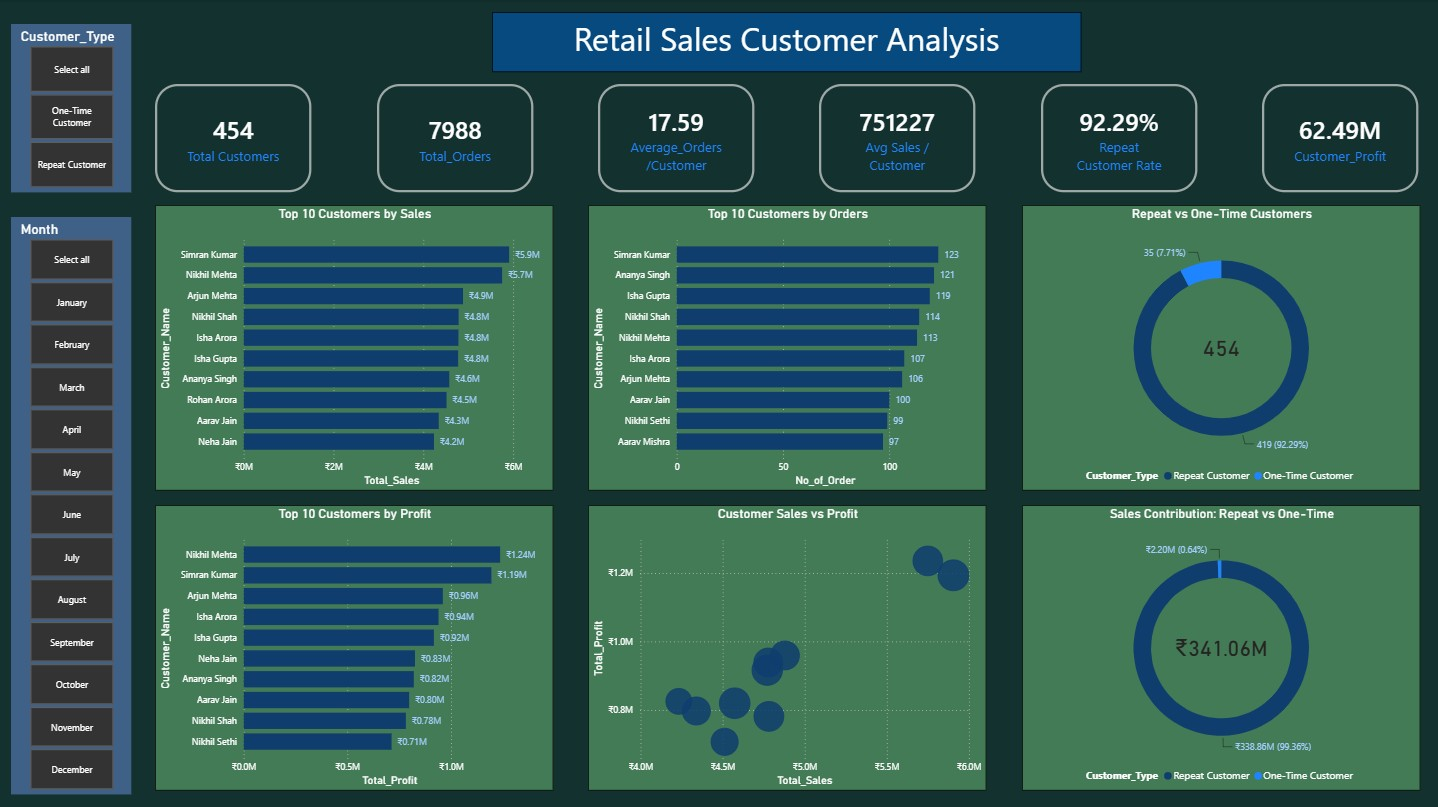

This screenshot's page, from the dashboard's own definition file:
{"tool":"powerbi","page":{"name":"Customer Analysis","canvas":[1920,1080],"ordinal":1},"visuals":[{"type":"cardVisual","fields":{"Data":["Customers.Total Customers"]},"box":[208,112,208,144],"z":0},{"type":"cardVisual","fields":{"Data":["Sales_Transactions.Total_Orders"]},"box":[502.4,112,208,144],"z":1000},{"type":"cardVisual","fields":{"Data":["Customers.Average_Orders/Customer"]},"box":[796.8,112,208,144],"z":2000},{"type":"cardVisual","fields":{"Data":["Customers.Average Sales_per_Customer"]},"box":[1091.2,112,208,144],"z":3000},{"type":"cardVisual","fields":{"Data":["Customers.Repeat Customer Rate"]},"box":[1385.6,112,208,144],"z":4000},{"type":"textbox","box":[656,16,784,80],"z":5000},{"type":"clusteredBarChart","title":"Top 10 Customers by Sales","fields":{"Category":["Customers.Customer_Name"],"Y":["Sales_Transactions.Total_Sales"]},"box":[208,272,530,380],"z":6000},{"type":"clusteredBarChart","title":"Top 10 Customers by Orders","fields":{"Category":["Customers.Customer_Name"],"Y":["Count(Sales_Transactions.Order_ID)"]},"box":[784,272,530,380],"z":7000},{"type":"cardVisual","fields":{"Data":["Customers.Customer Profit"]},"box":[1680,112,208,144],"z":8000},{"type":"donutChart","title":"Repeat vs One-Time Customers","fields":{"Category":["Customers.Customer_Type"],"Y":["Count(Customers.Customer_ID)"]},"box":[1360,272,530,380],"z":9000},{"type":"clusteredBarChart","title":"Top 10 Customers by Profit","fields":{"Category":["Customers.Customer_Name"],"Y":["Sales_Transactions.Total_Profit"]},"box":[208,672,530,380],"z":10000},{"type":"scatterChart","title":"Customer Sales vs Profit","fields":{"Category":["Customers.Customer_Name"],"Size":["Sales_Transactions.Total_Orders"],"X":["Sales_Transactions.Total_Sales"],"Y":["Sales_Transactions.Total_Profit"]},"box":[784,672,530,380],"z":11000},{"type":"donutChart","title":"Sales Contribution: Repeat vs One-Time","fields":{"Category":["Customers.Customer_Type"],"Y":["Sales_Transactions.Total_Sales"]},"box":[1360,672,530,380],"z":12000},{"type":"slicer","fields":{"Values":["Customers.Customer_Type"]},"box":[16,32,160,224],"z":13000},{"type":"slicer","fields":{"Values":["Sales_Transactions.Order_Date.Variation.Date Hierarchy.Month"]},"box":[16,288,160,768],"z":14000}]}

Visuals, with their boxes in screenshot pixels (x1, y1, x2, y2), scaled from the page's 1920x1080 canvas onto the 1438x807 screenshot:
cardVisual - Customers.Total Customers: l=156, t=84, r=312, b=191
cardVisual - Sales_Transactions.Total_Orders: l=376, t=84, r=532, b=191
cardVisual - Customers.Average_Orders/Customer: l=597, t=84, r=753, b=191
cardVisual - Customers.Average Sales_per_Customer: l=817, t=84, r=973, b=191
cardVisual - Customers.Repeat Customer Rate: l=1038, t=84, r=1194, b=191
textbox: l=491, t=12, r=1078, b=72
"Top 10 Customers by Sales" clusteredBarChart: l=156, t=203, r=553, b=487
"Top 10 Customers by Orders" clusteredBarChart: l=587, t=203, r=984, b=487
cardVisual - Customers.Customer Profit: l=1258, t=84, r=1414, b=191
"Repeat vs One-Time Customers" donutChart: l=1019, t=203, r=1416, b=487
"Top 10 Customers by Profit" clusteredBarChart: l=156, t=502, r=553, b=786
"Customer Sales vs Profit" scatterChart: l=587, t=502, r=984, b=786
"Sales Contribution: Repeat vs One-Time" donutChart: l=1019, t=502, r=1416, b=786
slicer - Customers.Customer_Type: l=12, t=24, r=132, b=191
slicer - Sales_Transactions.Order_Date.Variation.Date Hierarchy.Month: l=12, t=215, r=132, b=789
